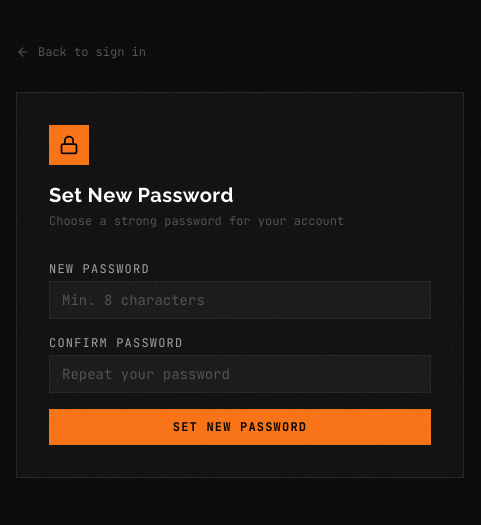
Test: ResetPasswordPage › shows error when passwords don't match
In the password field labelled "New Password": (240, 300) [49,281,431,319], type "password123"
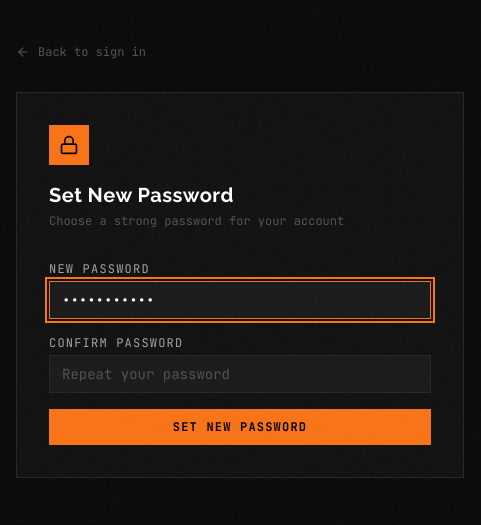
In the password field labelled "Confirm Password": (240, 374) [49,355,431,393], type "different1"
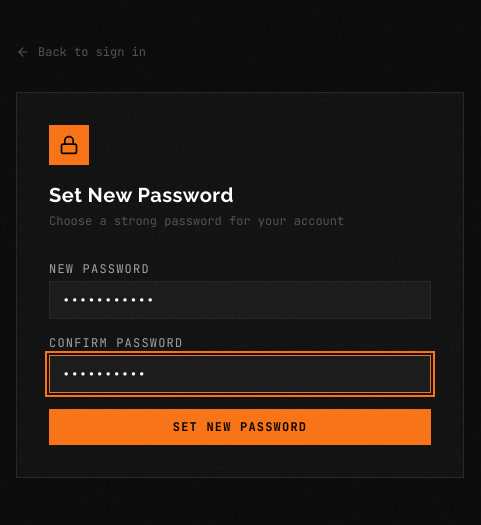
Click the button "Set New Password": (240, 427) [49,409,431,445]
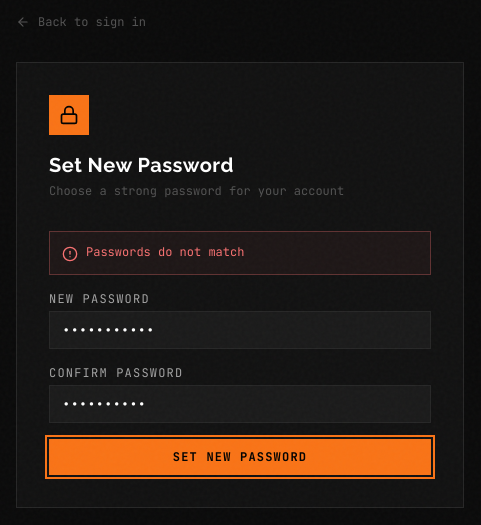
Check: the text "Passwords do not match" is shown, box [86,244,244,260]
